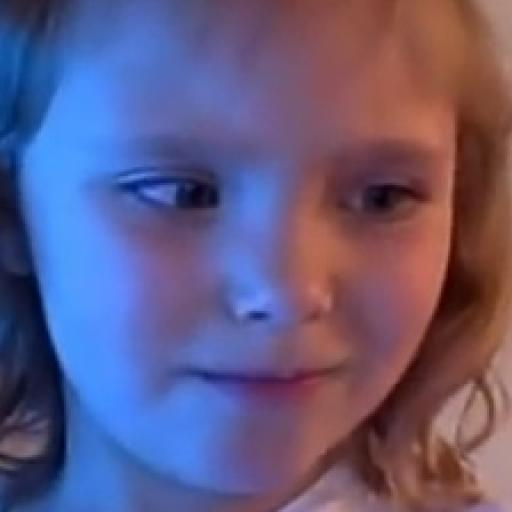Autism: (37, 0, 505, 512)
